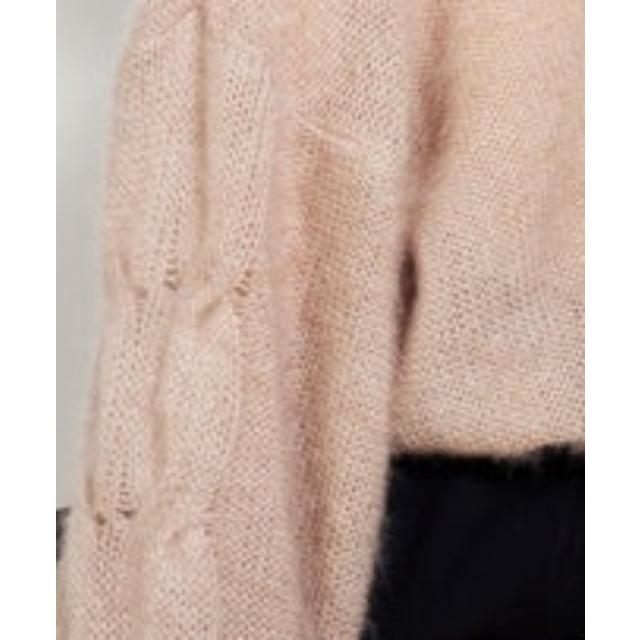wool: (80, 1, 584, 463)
